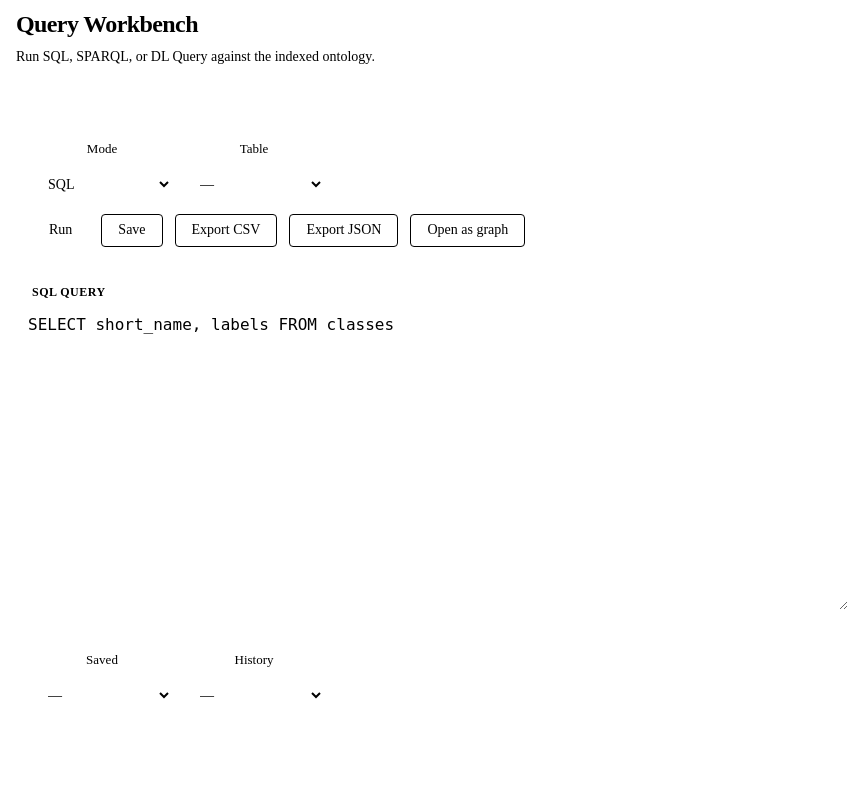
Test case: QueryWorkbenchPanel › clears prior error when running a new query
What coordinates should you click on to do the following:
click the button "Run"
I would click on:
 (61, 231)
Its box is 32,214 -> 89,247.
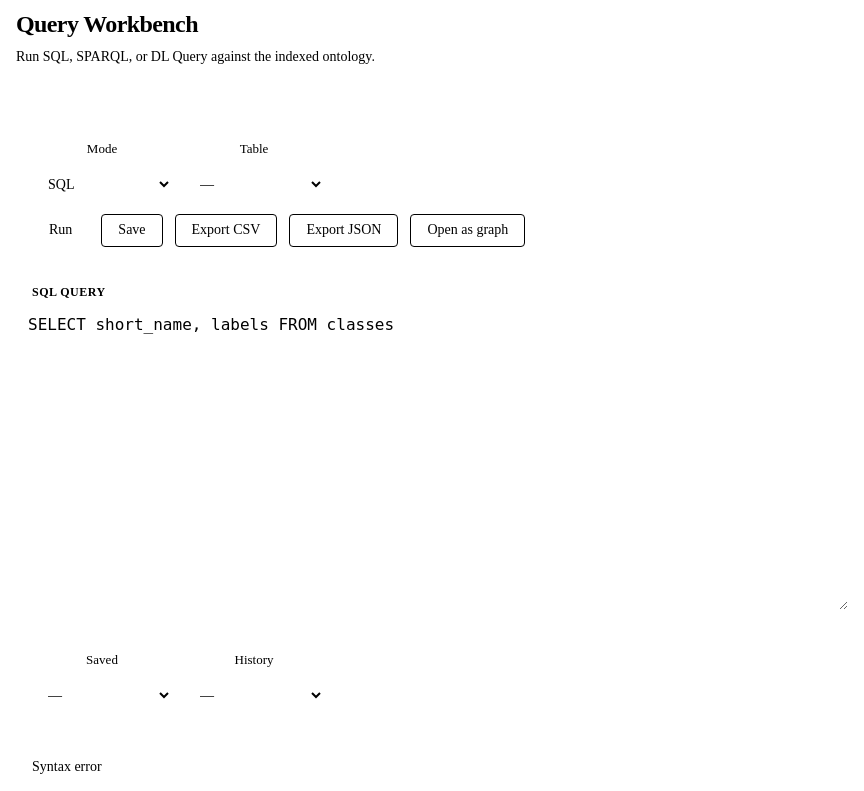
Check: the text "Syntax error" is shown, box 32,759 -> 102,774
What coordinates should you click on to do the following:
click the button "Run"
I would click on:
 (61, 231)
Its box is 32,214 -> 89,247.
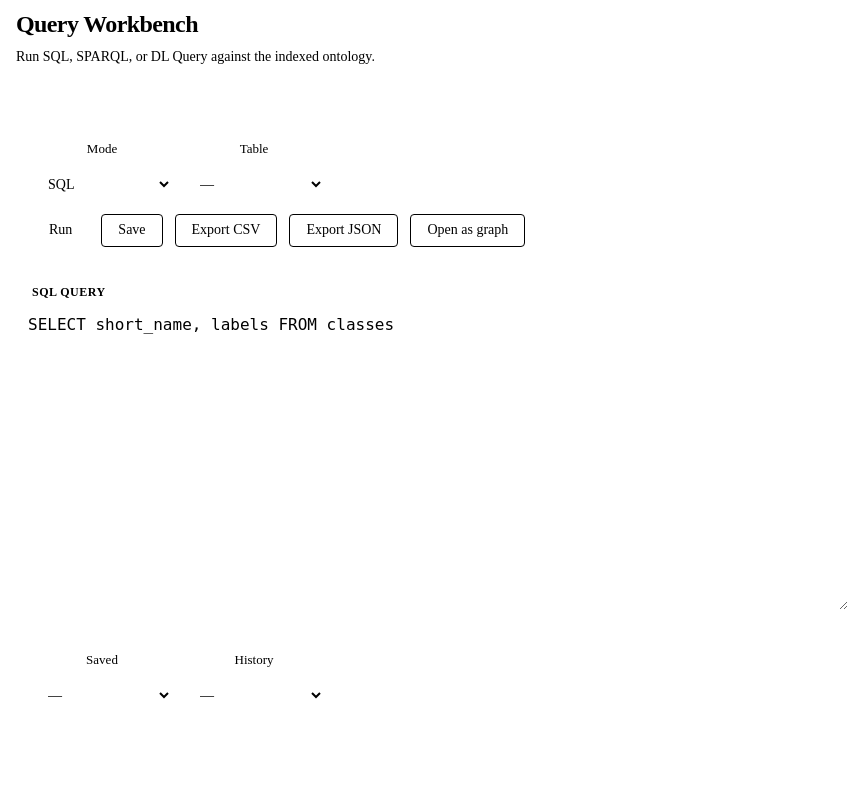
Check: the text "Syntax error" is gone
